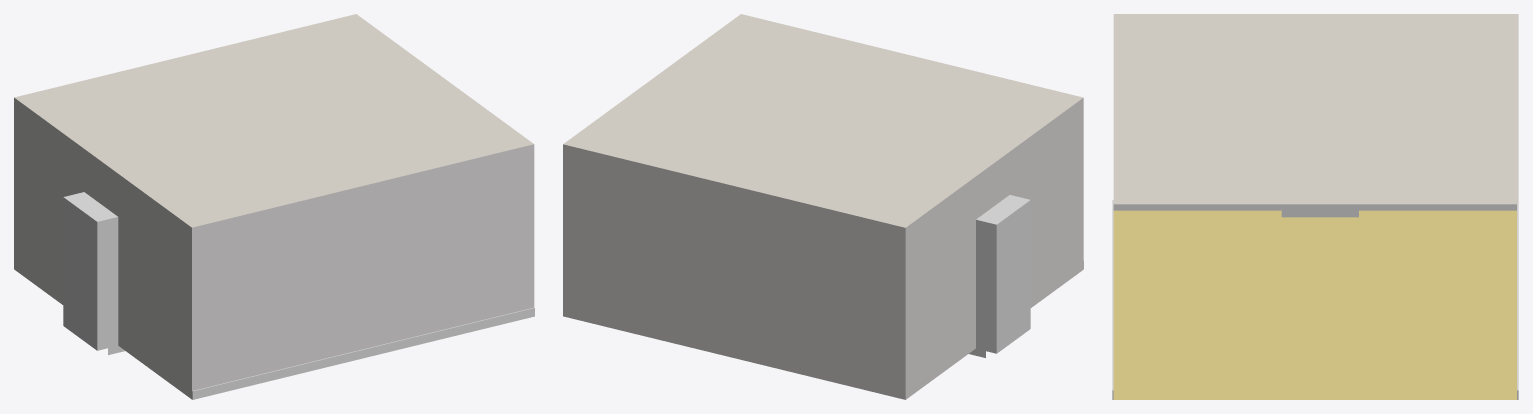
Rendered from Room1.gltf.
3 views of the same model, side by side, from view 1: azimuth 30°, elevation 25°; view 2: azimuth 150°, elevation 25°; view 3: azimuth 270°, elevation 25° (orthographic). The views are drawn at different scales.
Parts seen in each view (by area): view 1: room, CTRL_Hole, Baseboard; view 2: room, CTRL_Hole; view 3: room, Floor, Baseboard, CTRL_Hole.
Boxes of the visible parts, x1,y1,x2,y2 form: room: (14, 14, 534, 399); CTRL_Hole: (63, 192, 118, 350); Baseboard: (192, 307, 534, 399); room: (563, 14, 1083, 399); CTRL_Hole: (976, 195, 1030, 353); room: (1113, 14, 1518, 204); Floor: (1113, 210, 1516, 399); Baseboard: (1112, 200, 1518, 399); CTRL_Hole: (1281, 204, 1358, 217).
Size of the model in its own units: 5.31 by 2.5 by 4.52.
